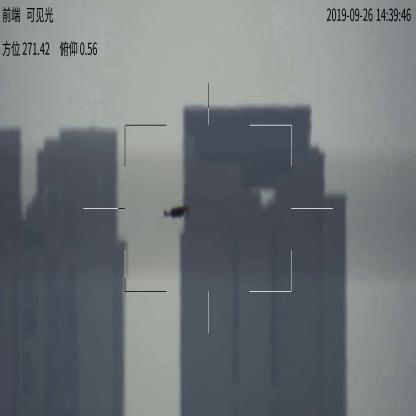uav: (157, 203, 196, 221)
